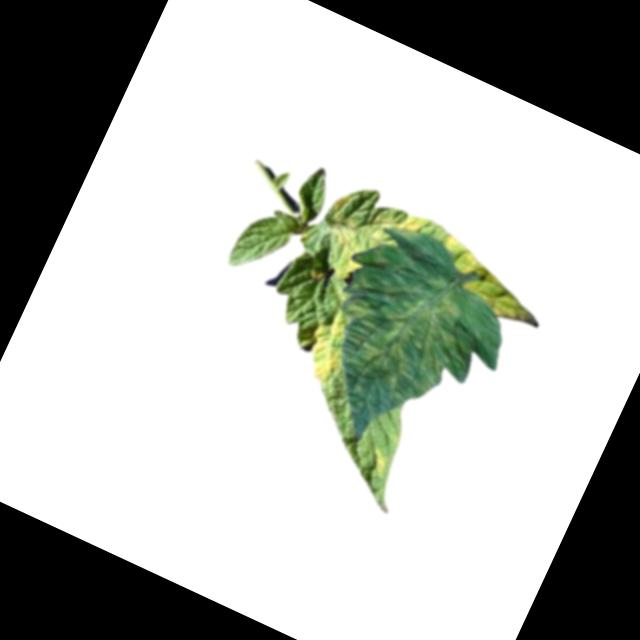Leaf_Mold: (335, 266, 471, 410), (423, 231, 560, 336), (293, 307, 355, 386), (310, 220, 373, 282), (394, 209, 428, 241)
